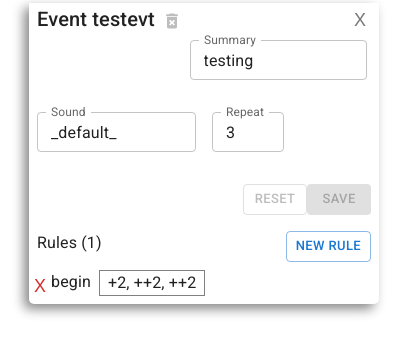
Test case: eventsutil - modify › handles error after invalid sound mod
This screenshot has width=399, height=344.
Type "new desc" into the field with test id "descrInput" at (278, 60), box [190,40,367,80]
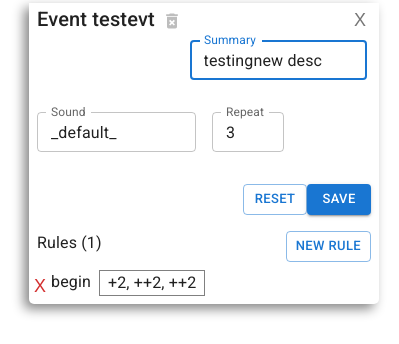
Type "new sound but way way too long" into the field with test id "soundInput" at (116, 132), box [37,112,196,152]
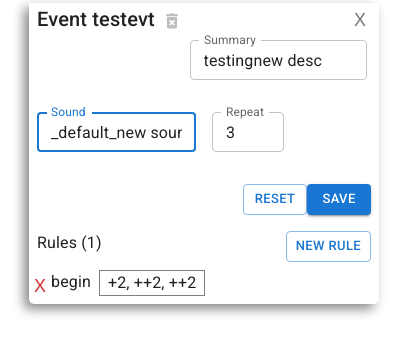
Check: the button "Save" is enabled
Click the button "Save" at (339, 199), box [307,184,371,215]
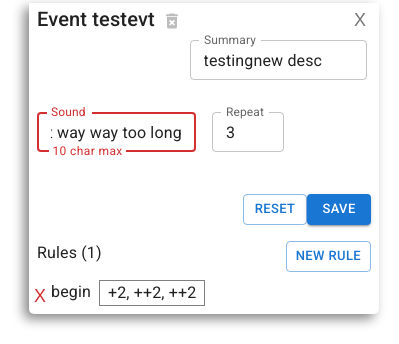
Check: the text "10 char max" is shown, box [49,144,126,158]
